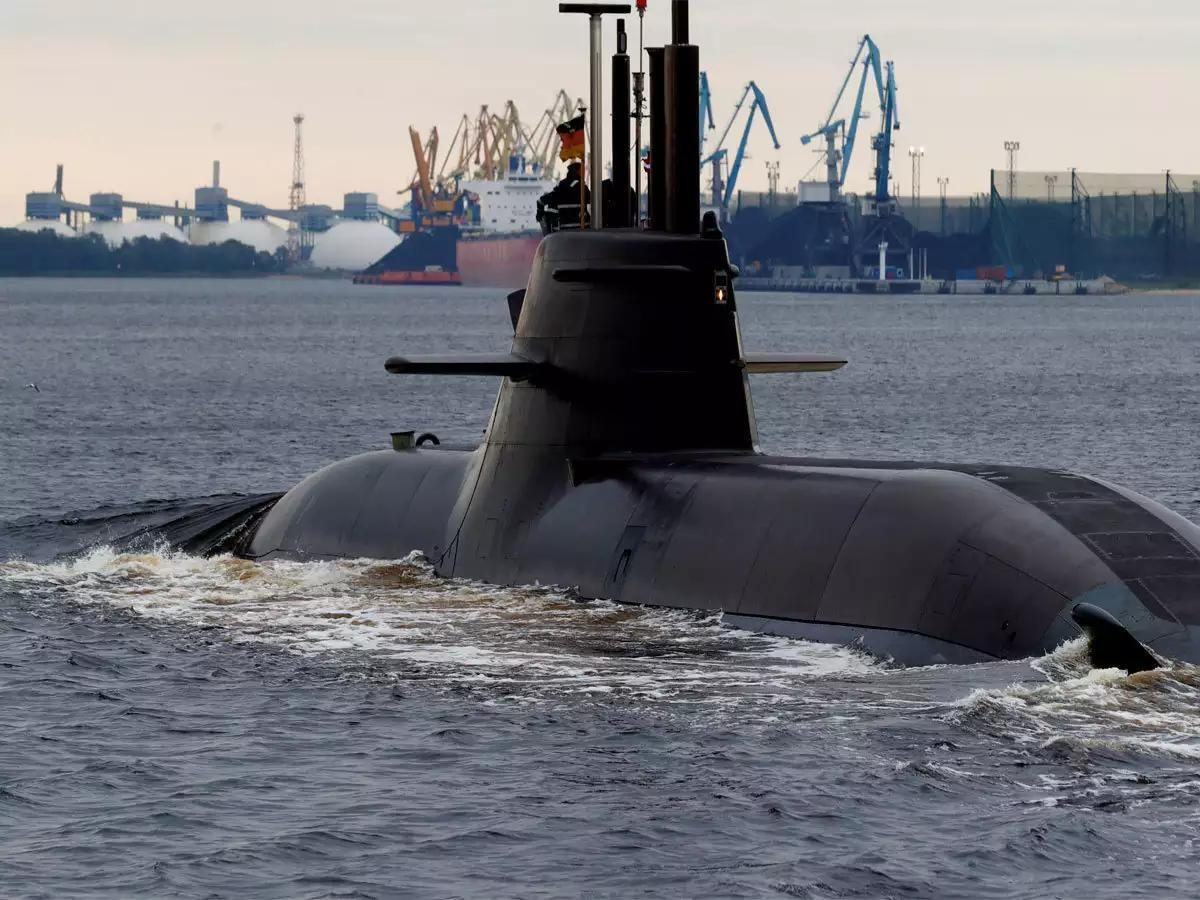Submarine: (47, 0, 1200, 875)
